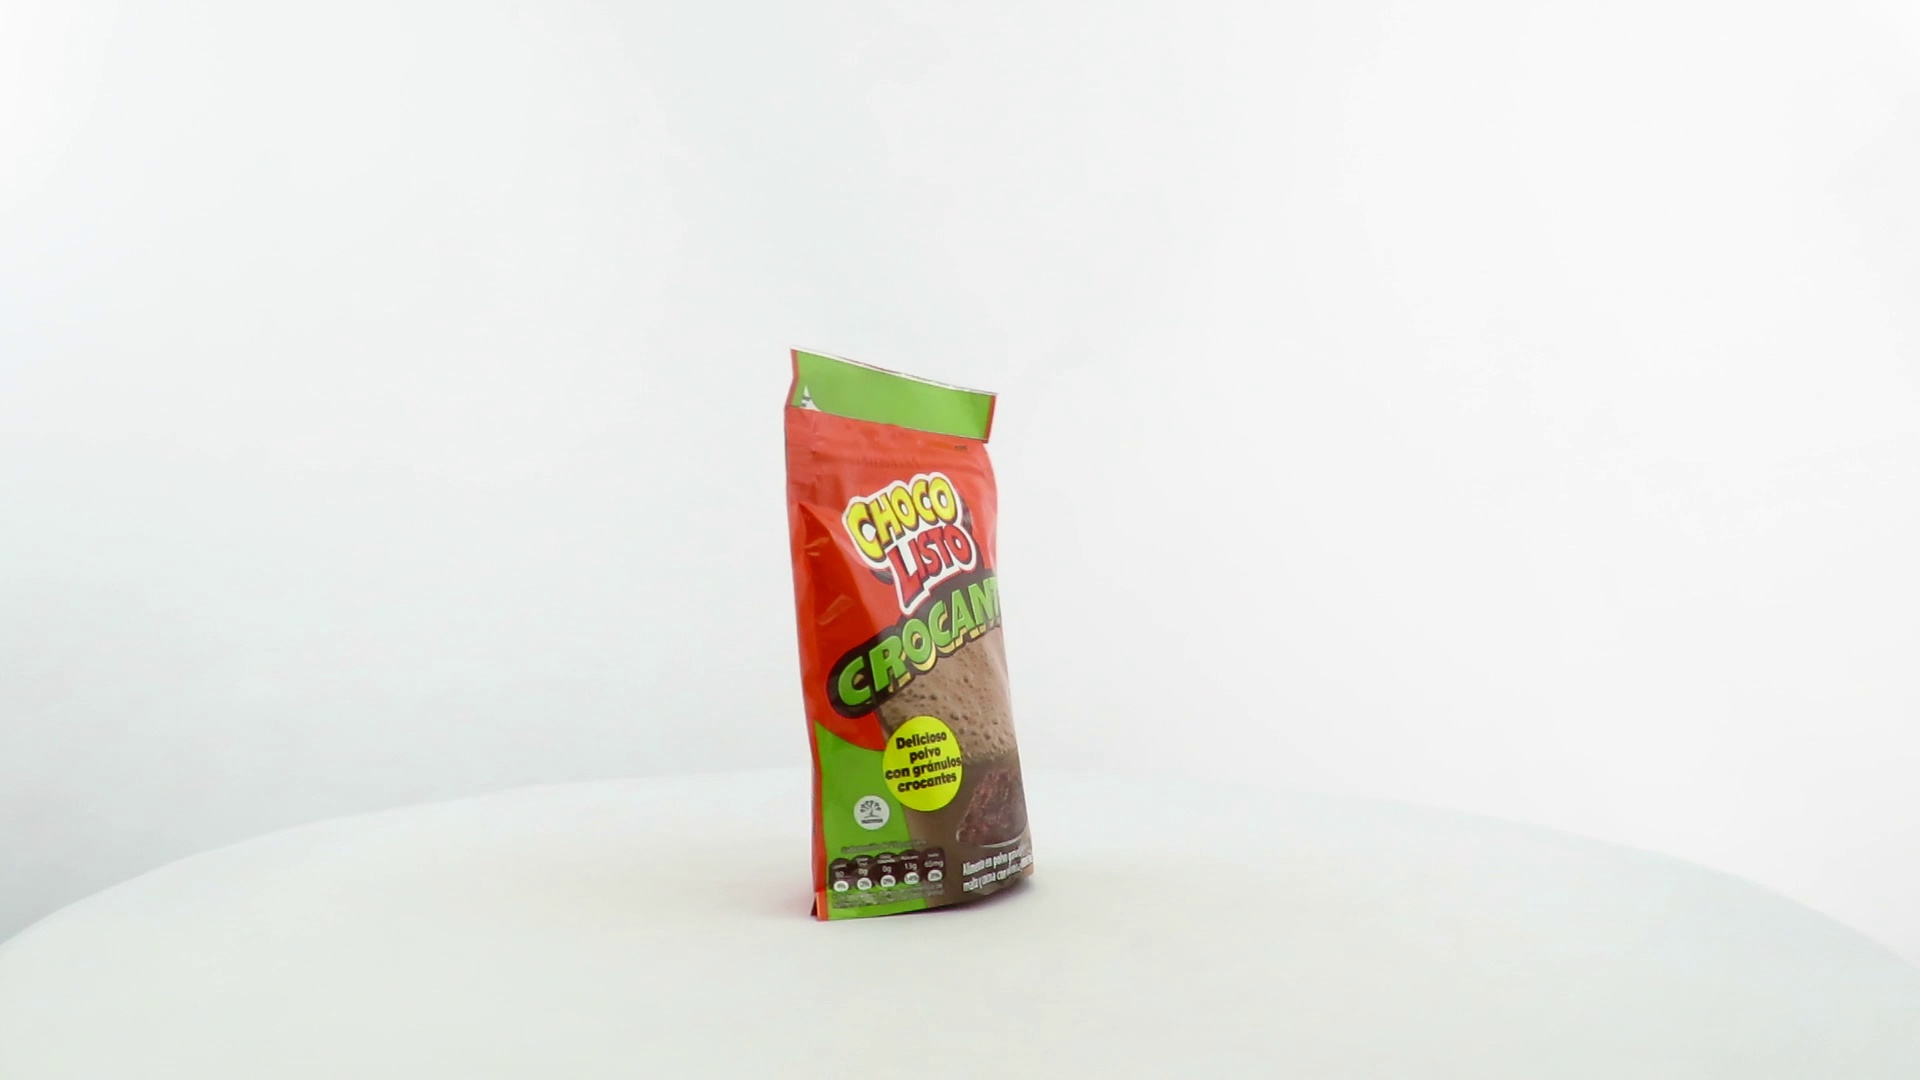COL0170102DYP10000: (779, 339, 1040, 928)
